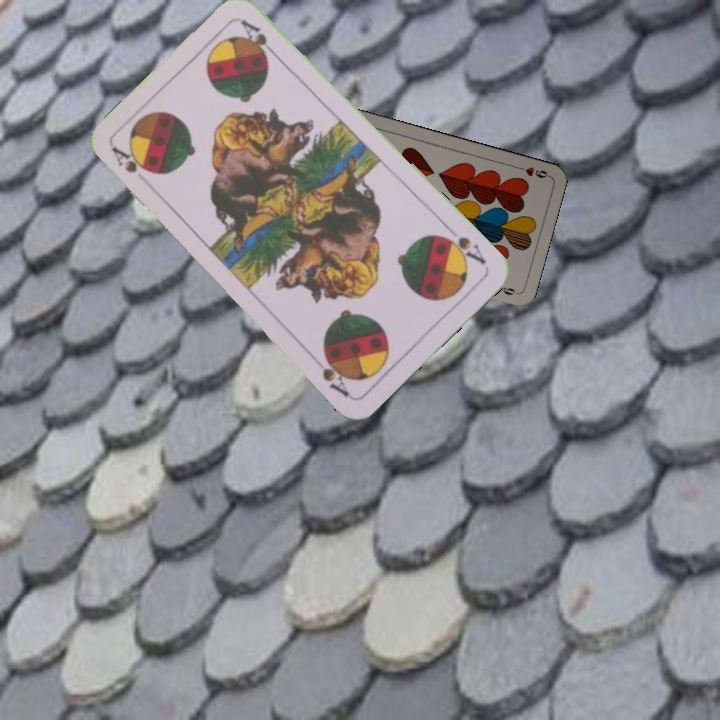H9: (512, 162, 552, 181)
SA: (436, 222, 489, 268), (107, 142, 151, 176)
